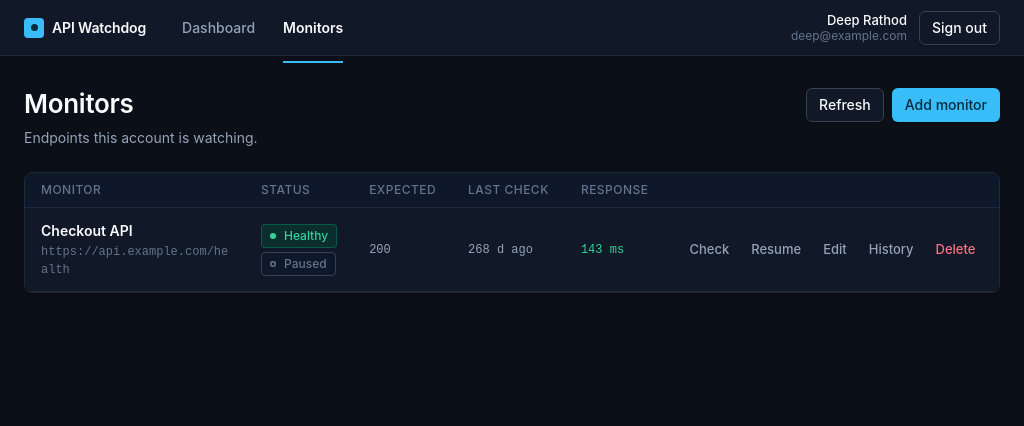
Scenario: manual check › runs on a paused monitor
This screenshot has width=1024, height=426.
Check: the text "Checkout API" is shown, box [41,222,133,239]
Check: the text "Paused" is shown, box [261,252,336,276]
What coordinates should you click on to do the following:
click the button with aria-label "Check Checkout API now"
I would click on:
 (709, 250)
Its box is [680,236,738,264].
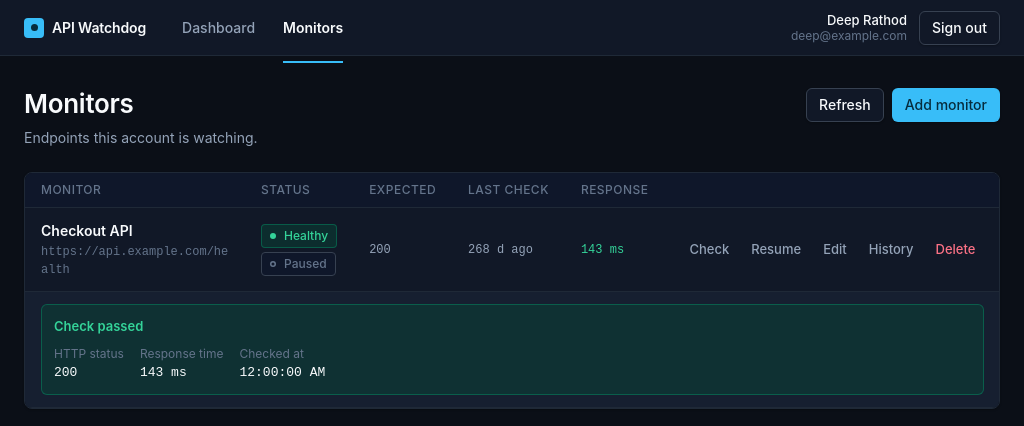
Check: the text "Check passed" is shown, box [54,318,143,334]
